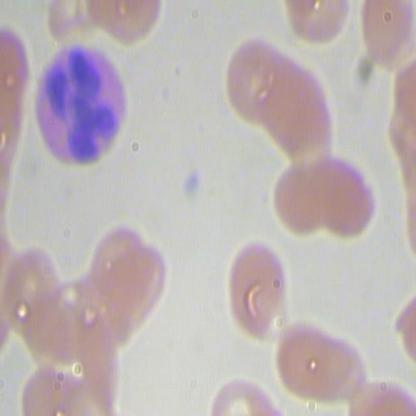Platelets: (173, 166, 206, 198)
RBC: (270, 322, 372, 400), (221, 33, 289, 135), (224, 237, 291, 340), (307, 152, 378, 238), (271, 153, 328, 240)
WBC: (26, 36, 144, 179)
